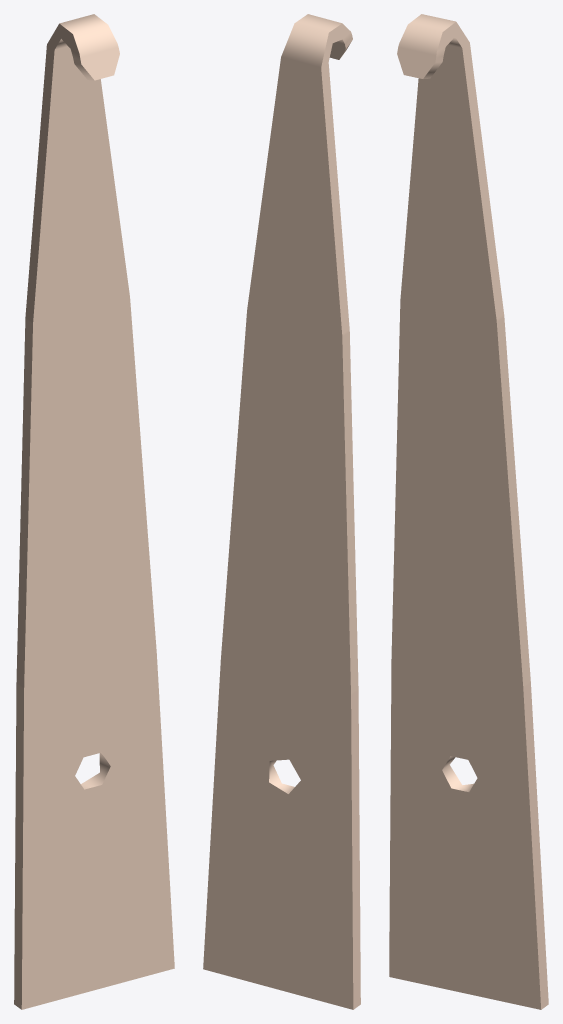
File: Crochet balancier.obj
The picture shows the model from 3 angles, left to right: view 1: azimuth 30°, elevation 25°; view 2: azimuth 150°, elevation 25°; view 3: azimuth 330°, elevation 25°; orthographic projection.
Visible parts, largest first — view 1: Face_9, Face_6, Face_1, Face_5, Face_11, Face_12, Face_27; view 2: Face_8, Face_6, Face_1, Face_5, Face_11; view 3: Face_9, Face_7, Face_2, Face_3, Face_11, Face_12, Face_27.
Part boxes in pixels (x1=…): Face_9: x1=21, y1=46, x2=174, y2=1009; Face_6: x1=16, y1=319, x2=32, y2=687; Face_1: x1=25, y1=23, x2=79, y2=320; Face_5: x1=14, y1=684, x2=23, y2=1009; Face_11: x1=59, y1=14, x2=118, y2=57; Face_12: x1=80, y1=47, x2=119, y2=80; Face_27: x1=81, y1=752, x2=110, y2=789; Face_8: x1=203, y1=57, x2=353, y2=1009; Face_6: x1=342, y1=332, x2=358, y2=693; Face_1: x1=321, y1=23, x2=350, y2=333; Face_5: x1=351, y1=690, x2=360, y2=1009; Face_11: x1=281, y1=14, x2=341, y2=67; Face_9: x1=389, y1=45, x2=541, y2=1009; Face_7: x1=496, y1=317, x2=530, y2=686; Face_2: x1=437, y1=22, x2=503, y2=318; Face_3: x1=523, y1=683, x2=548, y2=1009; Face_11: x1=398, y1=14, x2=455, y2=55; Face_12: x1=397, y1=47, x2=436, y2=78; Face_27: x1=442, y1=756, x2=473, y2=791.
Size of the model in its own units: 0.015 by 0.0918 by 0.00624.
